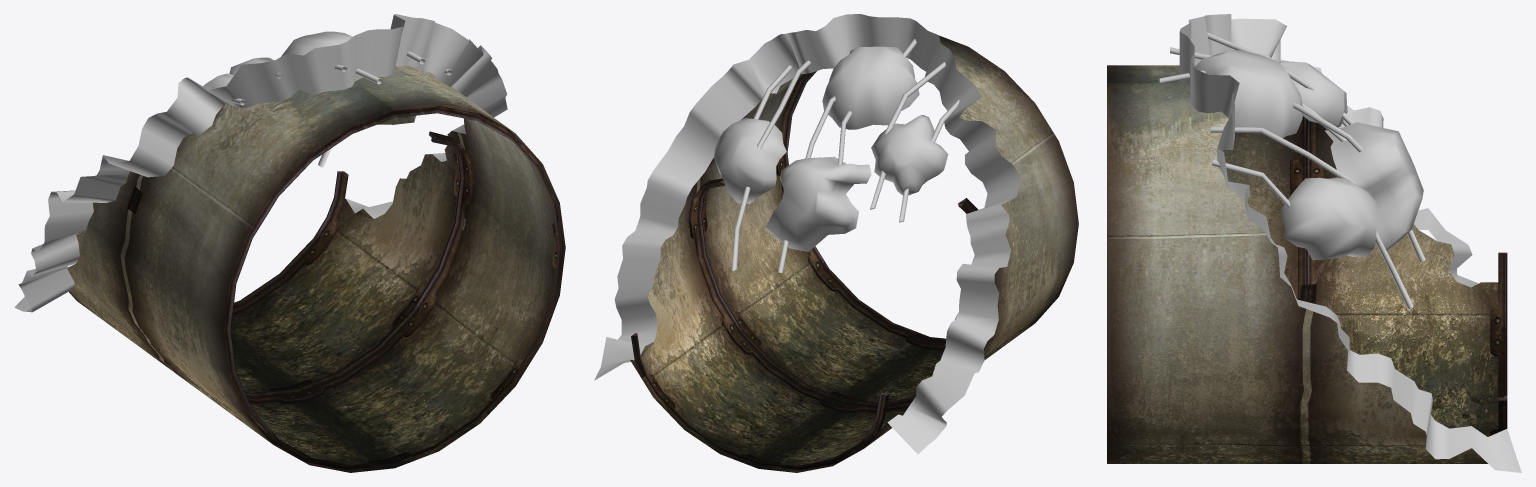
The model's file is flush_tunnel_02_07_straight_short_broken.dae.
3 views of the same model, side by side, from view 1: azimuth 30°, elevation 25°; view 2: azimuth 150°, elevation 25°; view 3: azimuth 270°, elevation 25° (orthographic). The views are drawn at different scales.
Visible parts, largest first — view 1: polySurface1174, polySurface1175, polySurface1176; view 2: polySurface1174, polySurface1175, polySurface1176; view 3: polySurface1174, polySurface1175, polySurface1176.
Boxes of the visible parts, <box> form: polySurface1174: <box>67,65,565,472</box>; polySurface1175: <box>14,14,507,312</box>; polySurface1176: <box>230,51,452,167</box>; polySurface1174: <box>630,35,1078,472</box>; polySurface1175: <box>594,14,1020,454</box>; polySurface1176: <box>732,39,959,272</box>; polySurface1174: <box>1107,65,1507,463</box>; polySurface1175: <box>1179,14,1521,472</box>; polySurface1176: <box>1159,32,1425,308</box>.
Bounding box in the file's own units: 5.03 × 4.52 × 4.15.
